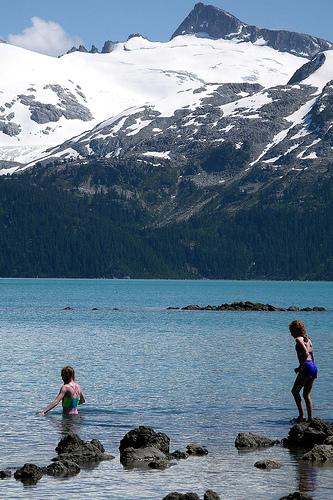human: (286, 318, 317, 422), (40, 362, 87, 421)
